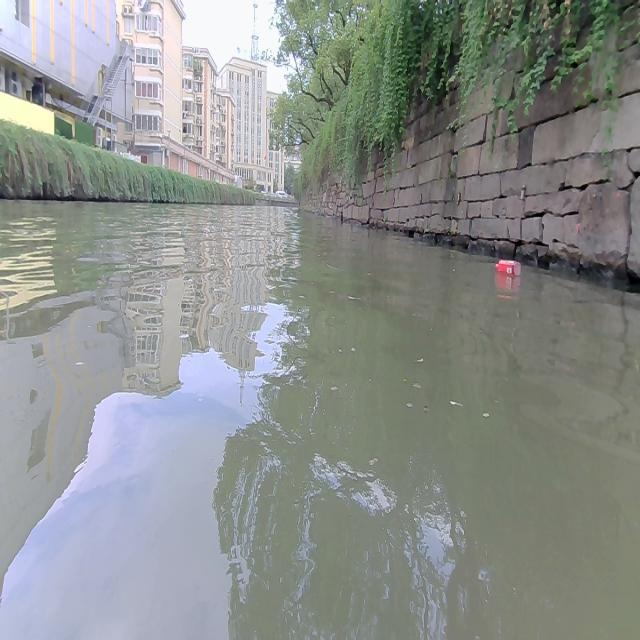bottle: (494, 258, 520, 274)
